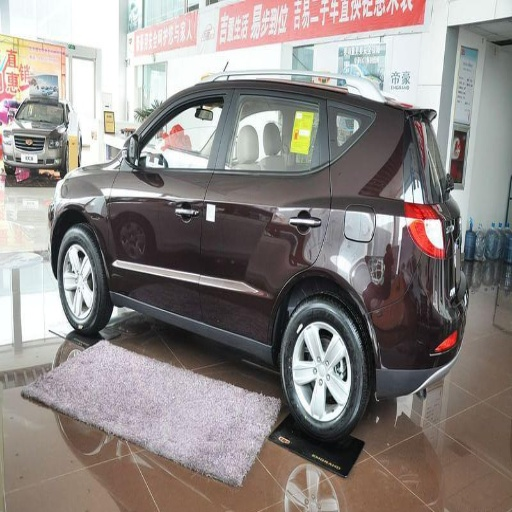back_left_door: (202, 84, 327, 345)
